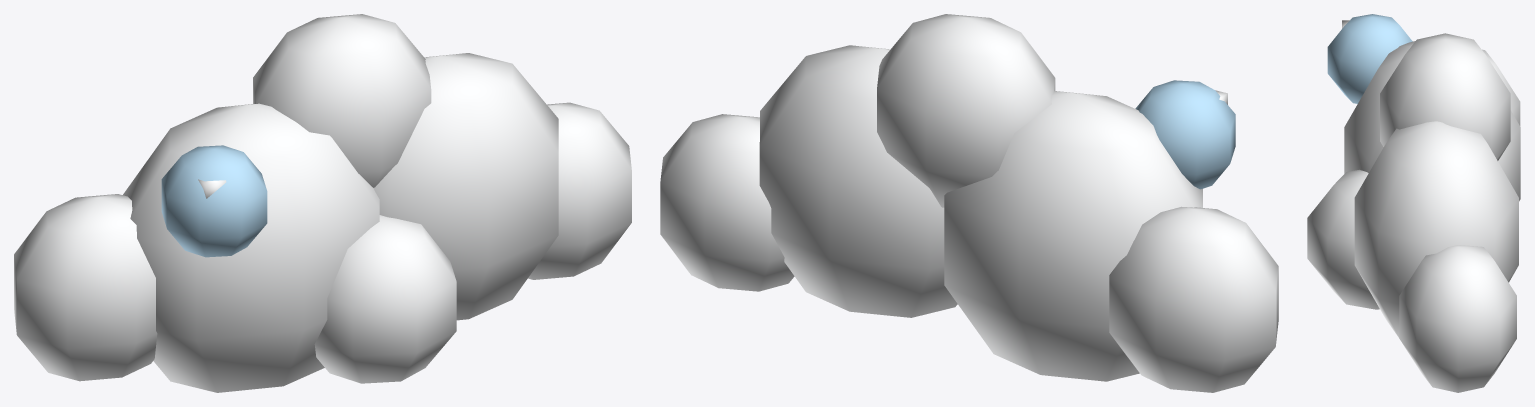
Rendered from CleanACat_Prop_FoamPuff2.fbx.
3 views of the same model, side by side, from view 1: azimuth 30°, elevation 25°; view 2: azimuth 150°, elevation 25°; view 3: azimuth 270°, elevation 25° (orthographic). The views are drawn at different scales.
Visible parts, largest first — view 1: CleanACat_Prop_FoamPuff2, CleanACat_Prop_FoamPuff2_Bubbles; view 2: CleanACat_Prop_FoamPuff2, CleanACat_Prop_FoamPuff2_Bubbles; view 3: CleanACat_Prop_FoamPuff2, CleanACat_Prop_FoamPuff2_Bubbles.
Part boxes in pixels (bbox=[...]): CleanACat_Prop_FoamPuff2: bbox=[14, 14, 631, 392]; CleanACat_Prop_FoamPuff2_Bubbles: bbox=[161, 145, 267, 257]; CleanACat_Prop_FoamPuff2: bbox=[660, 14, 1278, 392]; CleanACat_Prop_FoamPuff2_Bubbles: bbox=[1135, 80, 1235, 189]; CleanACat_Prop_FoamPuff2: bbox=[1307, 33, 1520, 392]; CleanACat_Prop_FoamPuff2_Bubbles: bbox=[1327, 14, 1412, 103].
Bounding box in the file's own units: 1.35 × 0.72 × 0.4971.
Materials: 1 (1 with a texture image).
